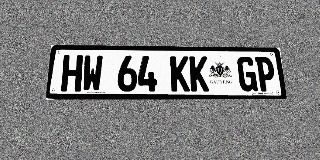4: (138, 56, 157, 92)
6: (117, 55, 137, 92)
G: (237, 57, 258, 91)
H: (61, 55, 83, 92)
K: (170, 56, 190, 91), (189, 56, 209, 91)
P: (255, 57, 276, 91)
W: (81, 55, 103, 92)
